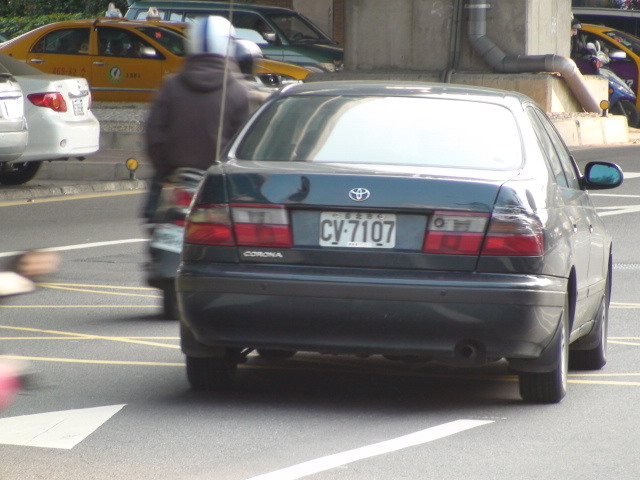plate: (319, 208, 400, 250)
